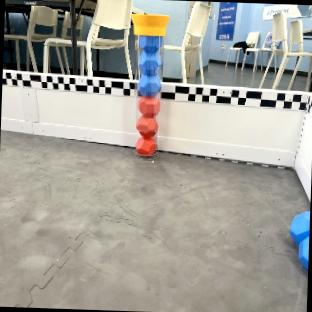V5_BLUE: (139, 35, 161, 95), (292, 211, 310, 268)
V5_RED: (138, 96, 159, 116), (137, 115, 157, 136), (137, 135, 156, 156)
